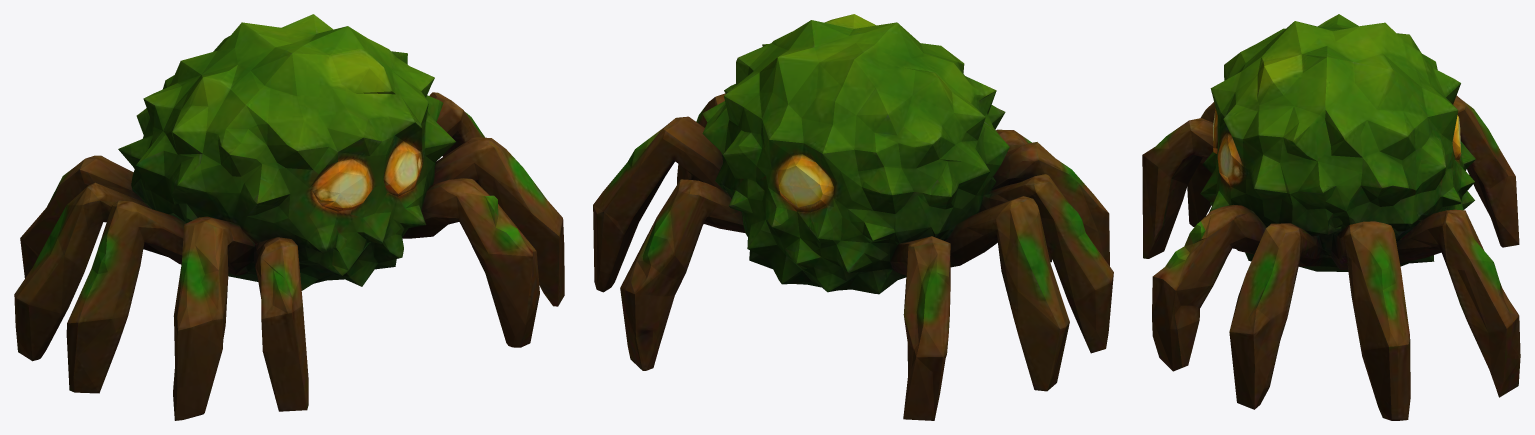
Rendered from m_araignee_de_mousse.glb.
The picture shows the model from 3 angles, left to right: view 1: azimuth 30°, elevation 25°; view 2: azimuth 150°, elevation 25°; view 3: azimuth 270°, elevation 25°; orthographic projection. The views are drawn at different scales.
Parts seen in each view (by area): view 1: geometry_0; view 2: geometry_0; view 3: geometry_0.
Part boxes in pixels (box(x1,y1,x2,y2)): geometry_0: box(14, 14, 564, 420); geometry_0: box(593, 14, 1113, 420); geometry_0: box(1142, 14, 1520, 420).
Size of the model in its own units: 0.9959 by 0.6136 by 0.7031.
Materials: 1 (1 with a texture image).
